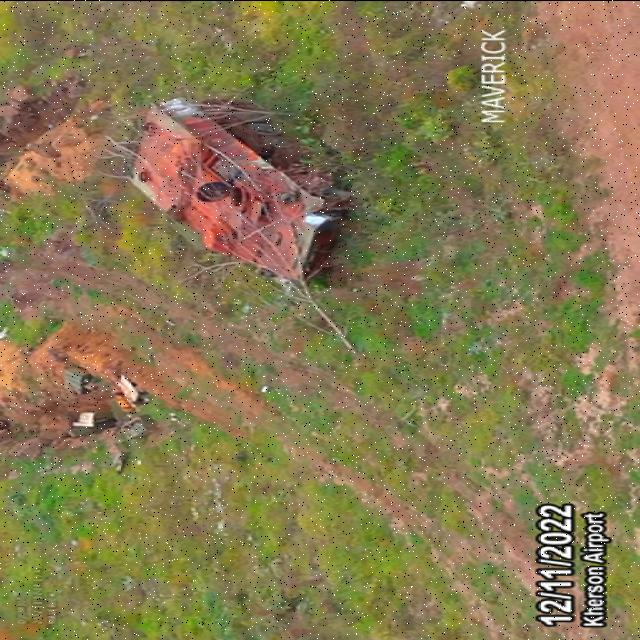APC-IFV: (114, 92, 354, 290)
